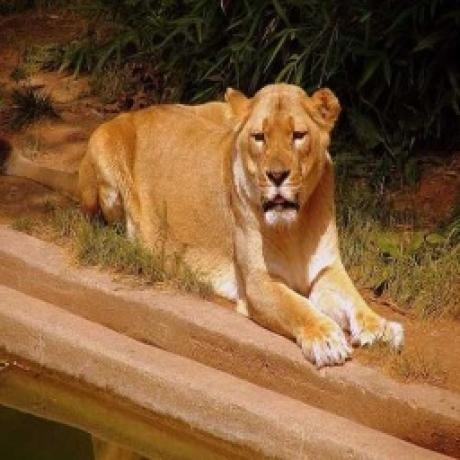Lion: (82, 76, 408, 366)
